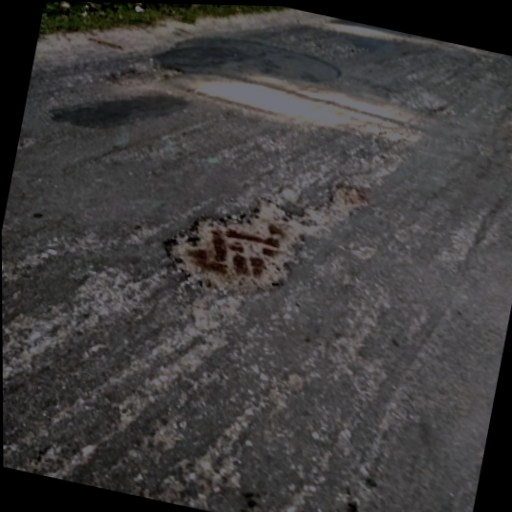pothole: (147, 175, 317, 315), (104, 50, 186, 100), (324, 178, 371, 222)
